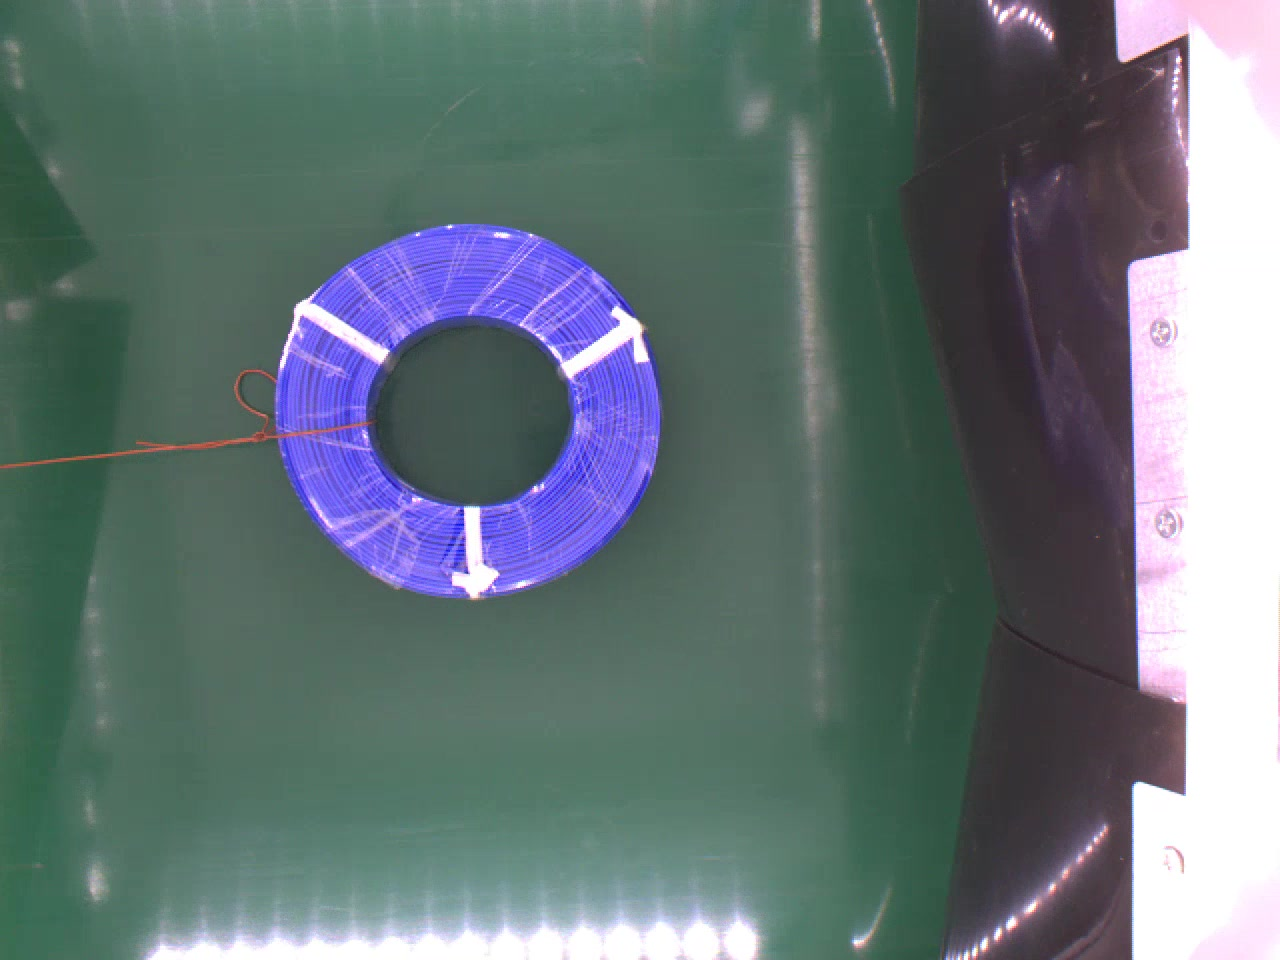blue: (270, 218, 662, 596)
